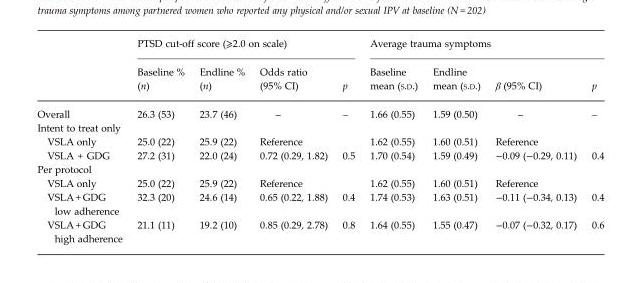table: (36, 36, 603, 244)
table column: (487, 36, 583, 244), (36, 36, 129, 244), (251, 36, 334, 244), (361, 36, 424, 244), (424, 36, 487, 244), (129, 36, 191, 244), (191, 36, 251, 244), (334, 36, 361, 244), (583, 36, 603, 244)
table column header: (36, 36, 603, 99)
table projected row header: (36, 120, 603, 134), (36, 162, 603, 175)
table row: (36, 57, 603, 99), (36, 189, 603, 217), (36, 217, 603, 244), (36, 36, 603, 57), (36, 99, 603, 120), (36, 147, 603, 162), (36, 120, 603, 134), (36, 175, 603, 189), (36, 134, 603, 147), (36, 162, 603, 175)
table spanning cell: (361, 36, 603, 57), (129, 36, 361, 57)
